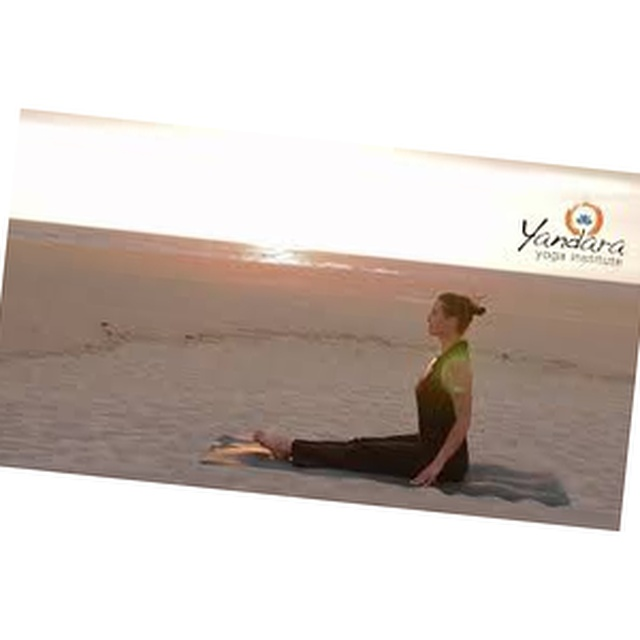Staff_Pose: (253, 292, 487, 488)
